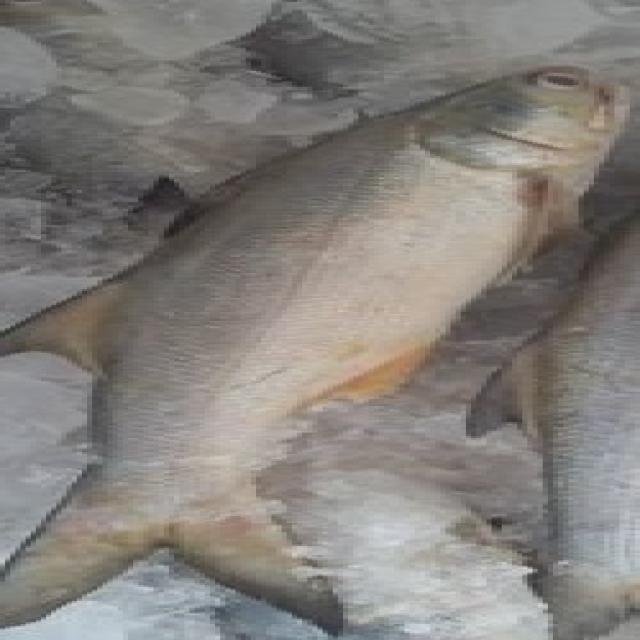Fourfinger-Threadfin: (0, 22, 640, 634)
